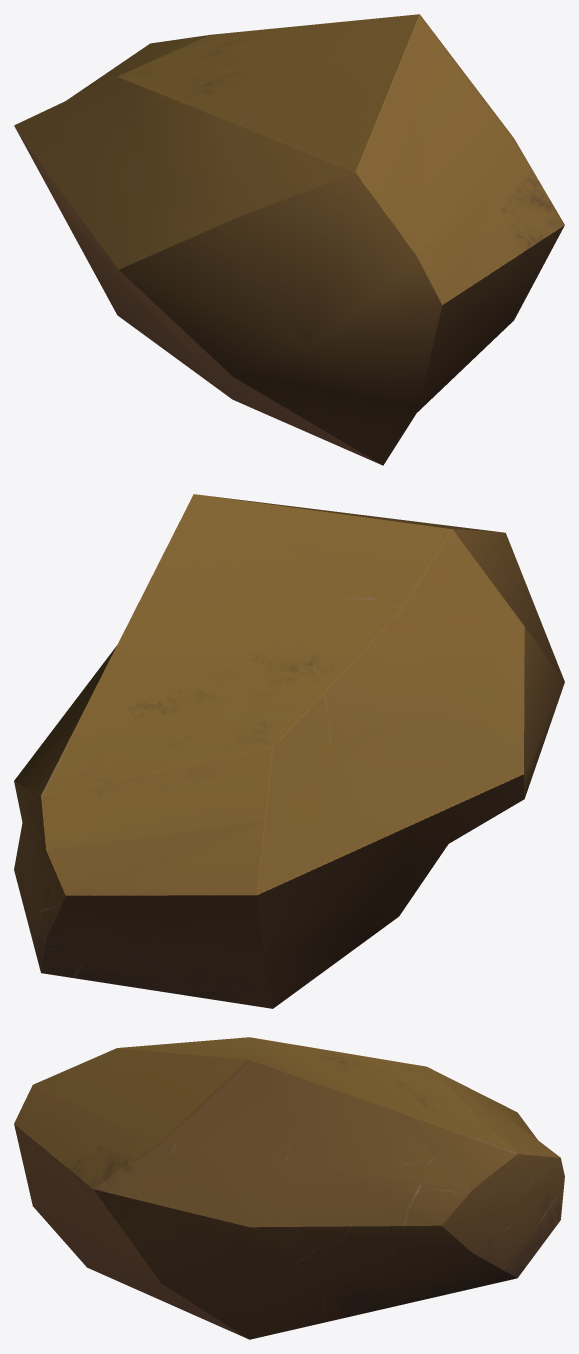
Rendered from Rock1.glb.
The picture shows the model from 3 angles, top to bottom: view 1: azimuth 30°, elevation 25°; view 2: azimuth 150°, elevation 25°; view 3: azimuth 270°, elevation 25°; orthographic projection. The views are drawn at different scales.
Visible parts, largest first — view 1: pPlatonic1; view 2: pPlatonic1; view 3: pPlatonic1.
Boxes of the visible parts, box(x1,y1,x2,y2) form: pPlatonic1: box(14, 14, 564, 465); pPlatonic1: box(14, 494, 564, 1008); pPlatonic1: box(14, 1037, 564, 1339).
Bounding box in the file's own units: 0.5198 × 0.4825 × 0.8593.
1 material, 1 textured.
